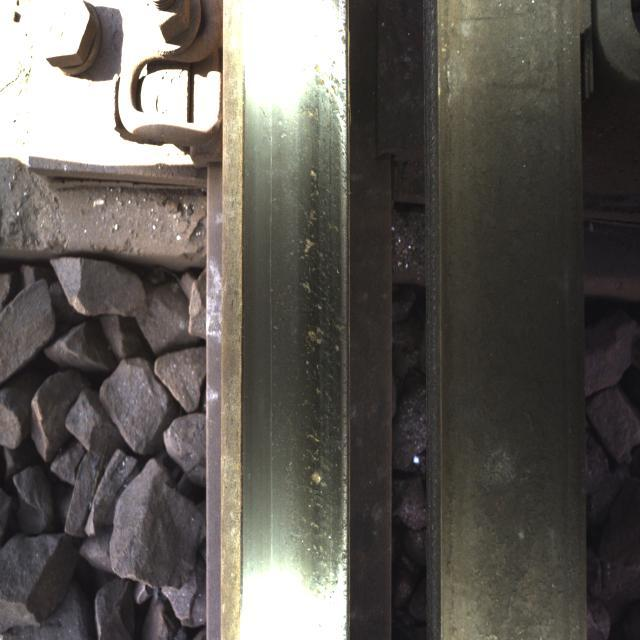scar: (256, 29, 339, 594)
